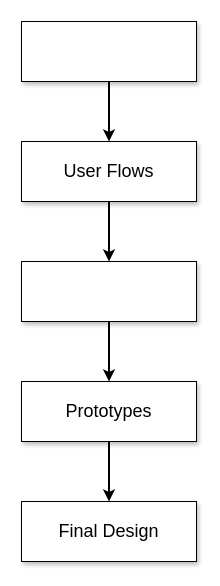
The diagram is 220 pixels wide and 586 high, and some of its shapes have lost their labels. The shapes that lost their labels are listed below. From the top down, each one's centre as x and y in pixels, then its label:
At point (109, 52): "Sketching".
At point (109, 292): "Wireframes".
